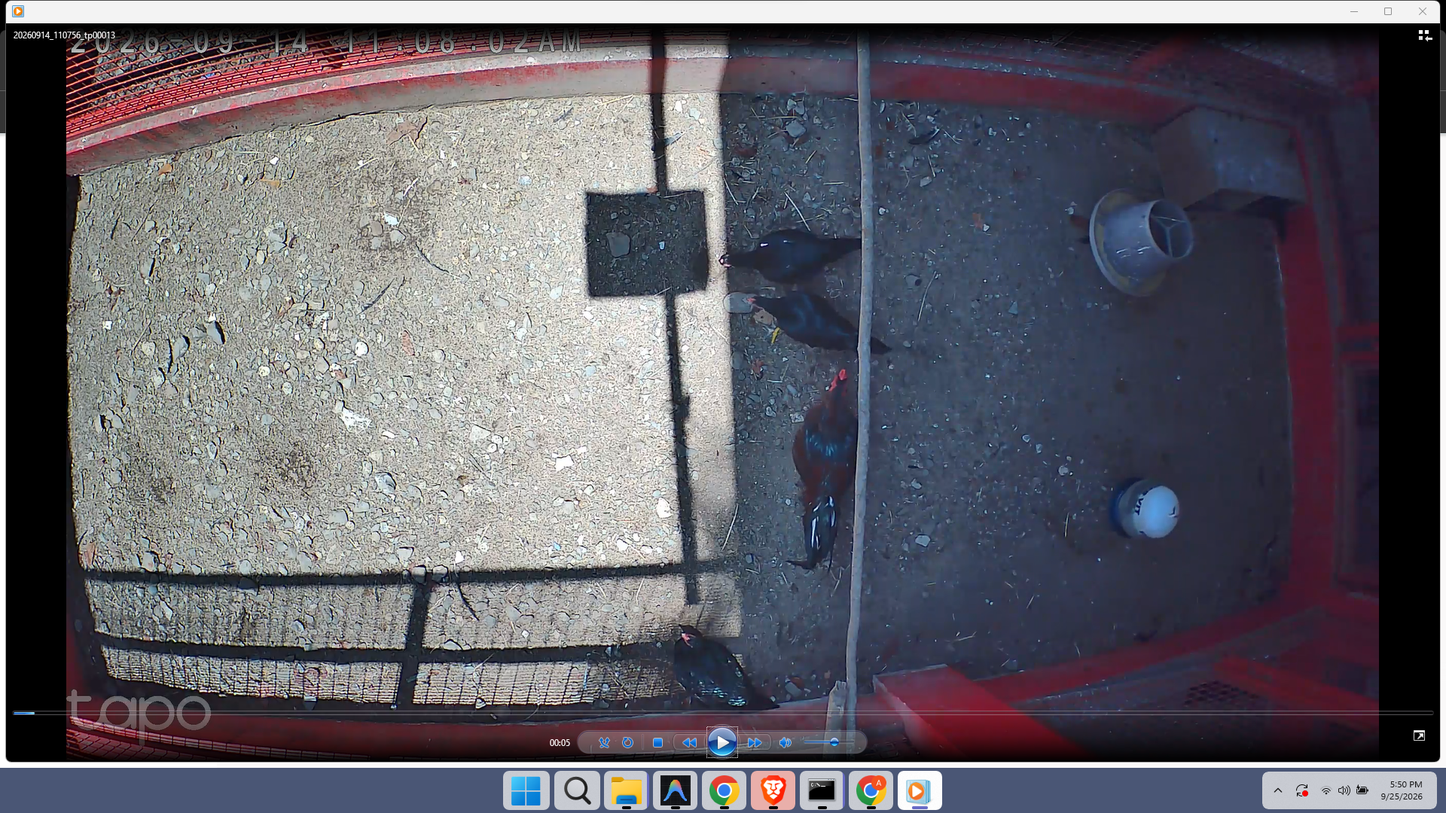Chicken: (740, 287, 894, 361), (670, 621, 781, 708), (714, 227, 862, 285)
Drinker: (1108, 476, 1181, 541)
Feeder: (1086, 185, 1196, 299)
Rooster: (788, 364, 860, 570)
